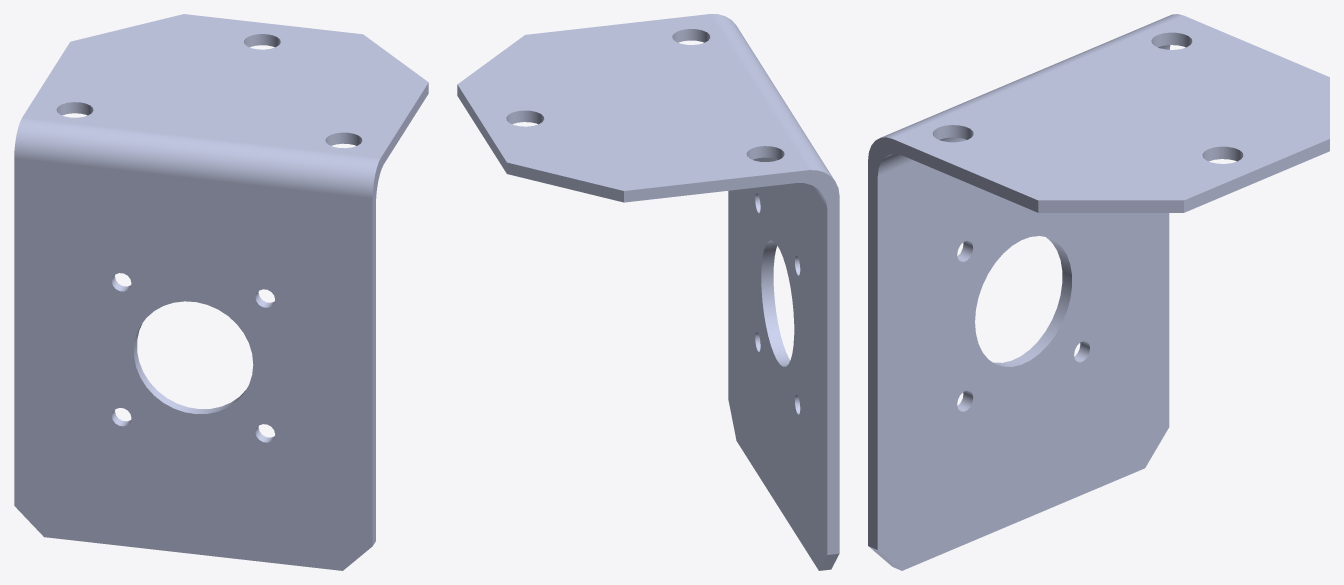
The model's file is body6_visual.obj.
3 renders of one model, left to right at view 1: azimuth 30°, elevation 25°; view 2: azimuth 150°, elevation 25°; view 3: azimuth 270°, elevation 25°, orthographic. The views are drawn at different scales.
Parts seen in each view (by area): view 1: Body6; view 2: Body6; view 3: Body6.
Boxes of the visible parts, left/top/right/bottom form: Body6: left=14, top=14, right=428, bottom=570; Body6: left=457, top=14, right=839, bottom=570; Body6: left=868, top=14, right=1329, bottom=570.
Size of the model in its own units: 6.72 by 7.2 by 6.72.
